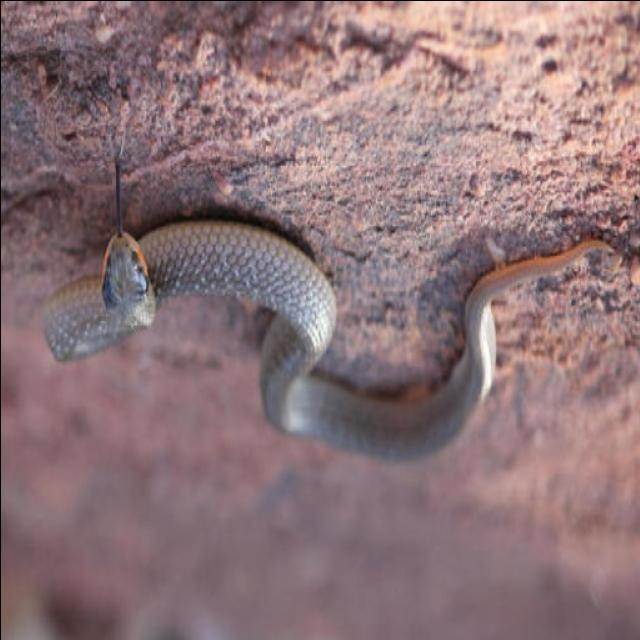snake: (5, 186, 619, 474)
